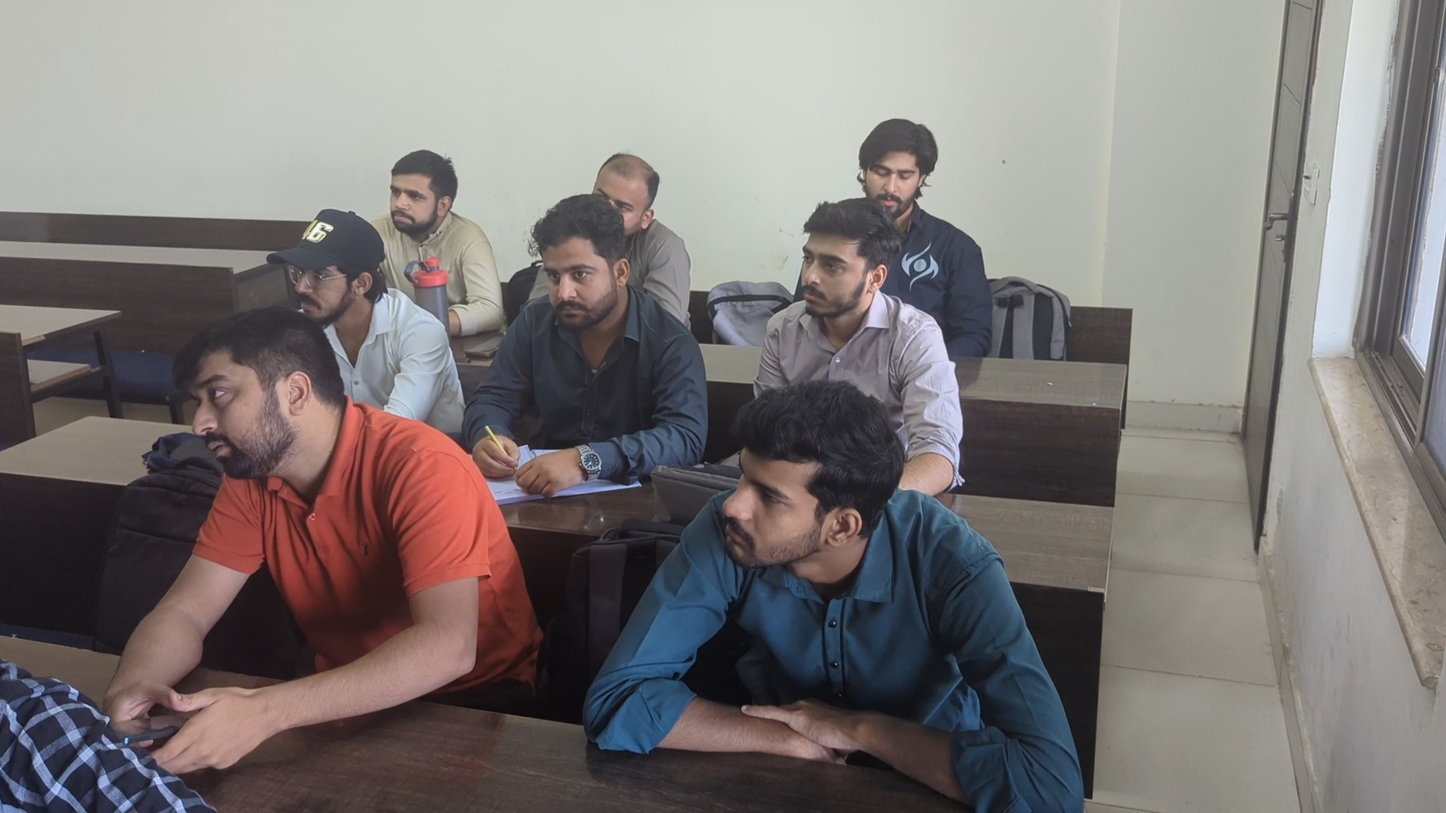look_forward: (587, 390, 1084, 808), (462, 195, 714, 496), (755, 189, 953, 384), (377, 151, 516, 328), (255, 195, 403, 332)
turn_head: (98, 309, 545, 790), (856, 104, 954, 226)
